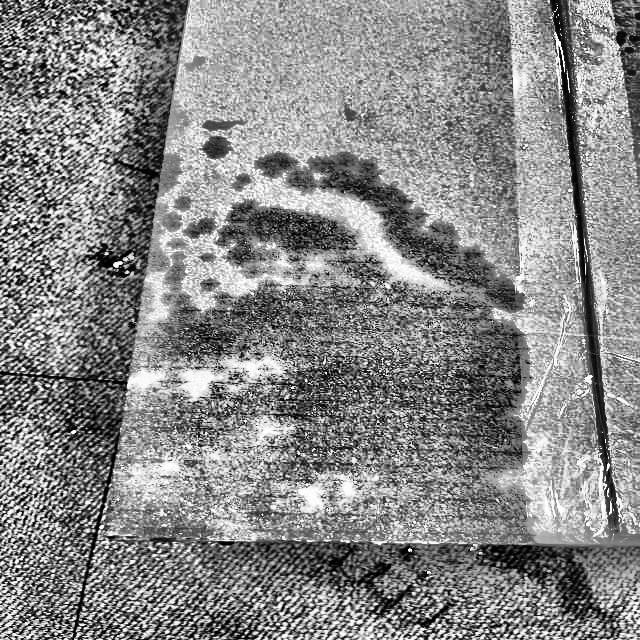box: (99, 0, 639, 543)
wet: (96, 196, 541, 536)
